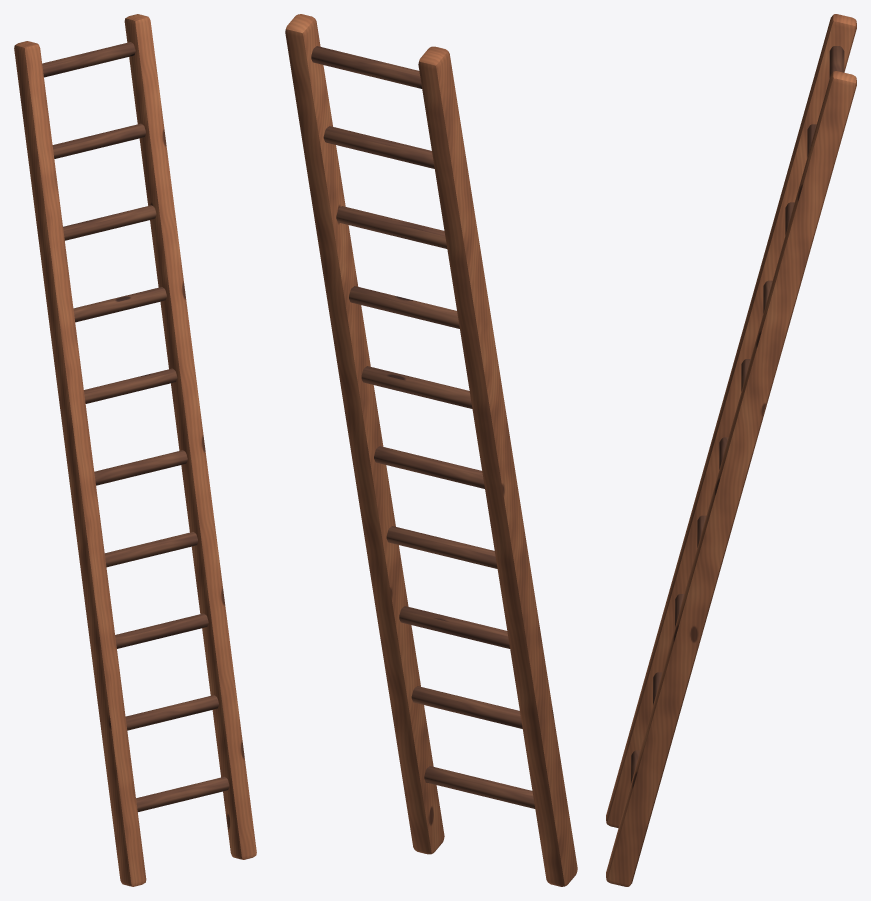
The model's file is ladder.gltf.
3 renders of one model, left to right at view 1: azimuth 30°, elevation 25°; view 2: azimuth 150°, elevation 25°; view 3: azimuth 270°, elevation 25°, orthographic. The views are drawn at different scales.
Parts seen in each view (by area): view 1: ladder_mesh; view 2: ladder_mesh; view 3: ladder_mesh.
Part boxes in pixels (box(x1,y1,x2,y2)): ladder_mesh: box(14, 14, 256, 886); ladder_mesh: box(285, 14, 577, 886); ladder_mesh: box(606, 14, 856, 886).
Bounding box in the file's own units: 0.58 × 3.31 × 0.9296.
2 materials, 2 textured.
